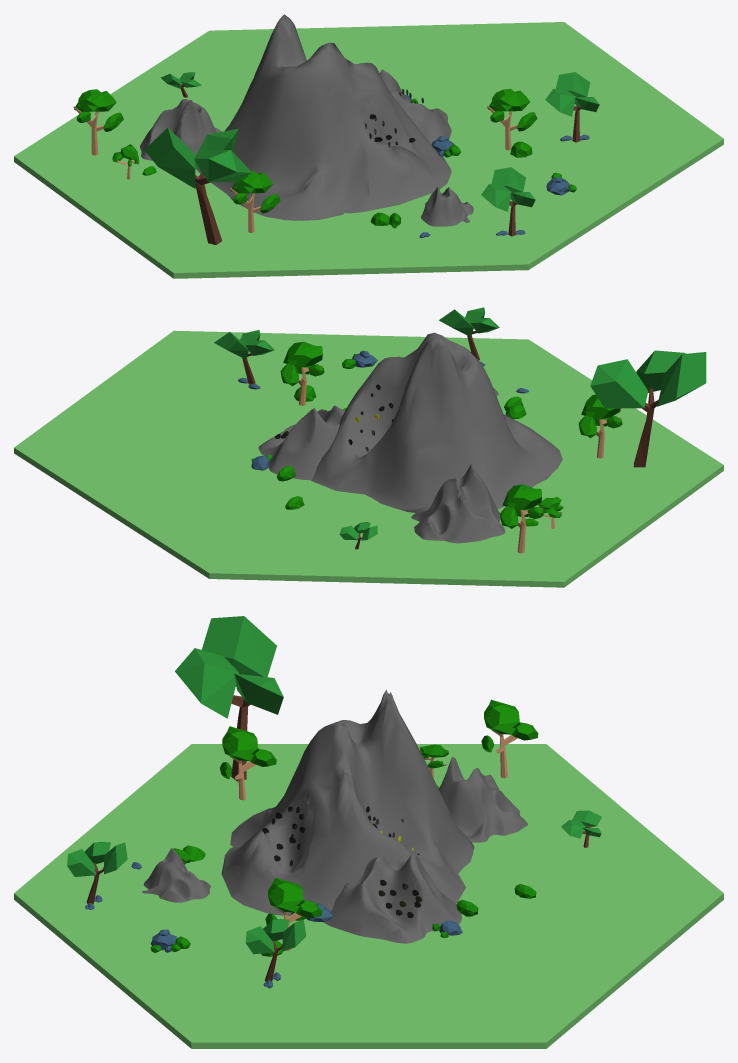
The model's file is Hexagone ressource obsidienne .fbx.
The picture shows the model from 3 angles, top to bottom: view 1: azimuth 30°, elevation 25°; view 2: azimuth 150°, elevation 25°; view 3: azimuth 270°, elevation 25°; orthographic projection. The views are drawn at different scales.
Parts seen in each view (by area): view 1: Cylindre.002, Landscape.008, Cube.047, Landscape.001, Cube.062, Cube.018, Landscape.009, Icokugel.076, Landscape.002, Icokugel.077, Icokugel.005, Cube.061 (+2 smaller); view 2: Cylindre.002, Landscape.008, Cube.047, Landscape.001, Landscape.009, Icokugel.076, Icokugel.077, Icokugel.005, Cube.062, Cube.018, Cube.061; view 3: Cylindre.002, Landscape.008, Landscape.009, Cube.047, Landscape.001, Landscape.002, Cube.062, Icokugel.076, Cube.018, Icokugel.005, Icokugel.077, Cube.061.
Part boxes in pixels (x1,y1,x2,y2): Cylindre.002: (14,22,723,278); Landscape.008: (196,14,451,220); Cube.047: (144,127,251,244); Landscape.001: (140,99,221,160); Cube.062: (545,72,599,142); Cube.018: (481,167,535,236); Landscape.009: (380,70,451,144); Icokugel.076: (73,89,123,155); Landscape.002: (421,186,473,226); Icokugel.077: (487,88,537,150); Icokugel.005: (230,170,280,232); Cube.061: (161,72,201,97); Cylindre.002: (14,330,723,587); Landscape.008: (311,332,562,512); Cube.047: (590,350,706,467); Landscape.001: (411,463,505,543); Landscape.009: (258,405,345,480); Icokugel.076: (500,484,543,553); Icokugel.077: (280,341,324,405); Icokugel.005: (578,394,622,458); Cube.062: (214,330,274,389); Cube.018: (439,307,499,366); Cube.061: (339,522,377,549); Cylindre.002: (14,744,723,1048); Landscape.008: (221,689,474,916); Landscape.009: (323,851,461,943); Cube.047: (175,616,283,781); Landscape.001: (438,756,527,842); Landscape.002: (142,848,210,902); Cube.062: (245,919,306,988); Icokugel.076: (481,699,538,778); Cube.018: (67,842,127,909); Icokugel.005: (220,726,276,800); Icokugel.077: (265,877,322,950); Cube.061: (561,810,601,847).
Size of the model in its own units: 2001 by 587 by 2011.
